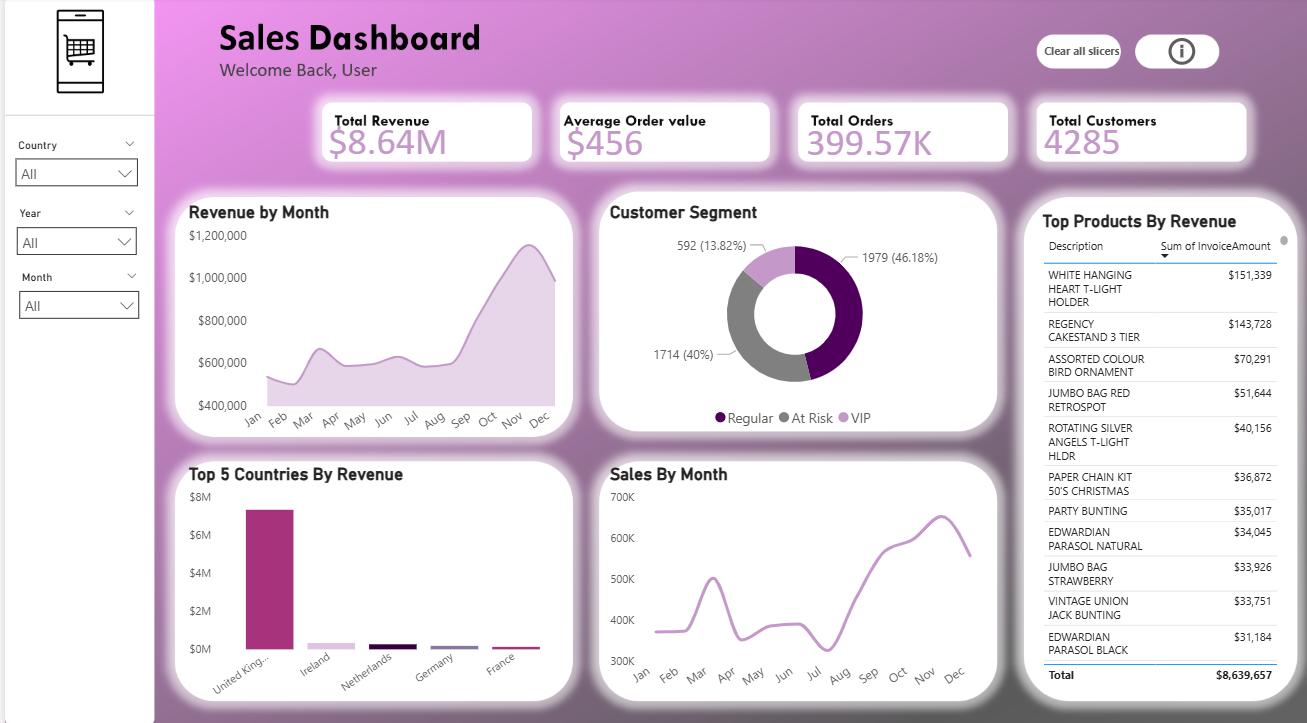

What the dashboard file says about the page in this screenshot:
{"tool":"powerbi","page":{"name":"Page 3","canvas":[1280,720],"ordinal":2},"visuals":[{"type":"card","fields":{"Values":["Count(Online_retail_clean.Customer ID)"]},"box":[1000,119,115.3,41.7],"z":0},{"type":"card","fields":{"Values":["Sum(Online_retail_clean.InvoiceAmount)"]},"box":[282.2,108,187.7,62.6],"z":1000},{"type":"card","fields":{"Values":["CountNonNull(Online_retail_clean.Invoice)"]},"box":[763.2,111.7,170.6,58.9],"z":2000},{"type":"actionButton","box":[1137.4,35.6,36.8,35.6],"z":3000},{"type":"actionButton","box":[1004.9,35.6,104.3,34.4],"z":4000},{"type":"donutChart","title":"Customer Segment","fields":{"Category":["Customer_Analysis.Customer Segment"],"Y":["Count(Customer_Analysis.CustomerID)"]},"box":[589,201.2,373,230.7],"z":5000},{"type":"slicer","fields":{"Values":["Online_retail_clean.Country"]},"box":[0,133.3,140,60],"z":6000},{"type":"slicer","fields":{"Values":["Online_retail_clean.Year"]},"box":[1.7,201.7,138.3,61.7],"z":7000},{"type":"slicer","fields":{"Values":["Online_retail_clean.Month"]},"box":[3.3,263.3,138.3,61.7],"z":8000},{"type":"areaChart","fields":{"Y":["Sum(Online_retail_clean.InvoiceAmount)"],"Category":["Online_retail_clean.Month"]},"box":[175,201.7,380,246.7],"z":9000},{"type":"clusteredColumnChart","title":"Top 5 Countries By Revenue","fields":{"Category":["Online_retail_clean.Country"],"Y":["Sum(Online_retail_clean.InvoiceAmount)"]},"box":[175.3,457.6,380.6,240.9],"z":10000},{"type":"lineChart","title":"Sales By Month","fields":{"Category":["Online_retail_clean.Month"],"Y":["CountNonNull(Online_retail_clean.Invoice)"]},"box":[588.7,457.6,374.9,240.9],"z":11000},{"type":"tableEx","title":"Top Products By Revenue","fields":{"Values":["Online_retail_clean.Description","Sum(Online_retail_clean.InvoiceAmount)"]},"box":[1013.5,209.8,251.5,471.2],"z":12000},{"type":"card","fields":{"Values":["Customer_Analysis.Average Order Value"]},"box":[504.3,111.7,169.3,58.9],"z":13000}]}

Visuals, with their boxes in screenshot pixels (x1, y1, x2, y2), scaled from the page's 1280x720 canvas onto the 1307x723 screenshot:
card - Count(Online_retail_clean.Customer ID): <bbox>1021, 119, 1139, 161</bbox>
card - Sum(Online_retail_clean.InvoiceAmount): <bbox>288, 108, 480, 171</bbox>
card - CountNonNull(Online_retail_clean.Invoice): <bbox>779, 112, 953, 171</bbox>
actionButton: <bbox>1161, 36, 1199, 71</bbox>
actionButton: <bbox>1026, 36, 1133, 70</bbox>
"Customer Segment" donutChart: <bbox>601, 202, 982, 434</bbox>
slicer - Online_retail_clean.Country: <bbox>0, 134, 143, 194</bbox>
slicer - Online_retail_clean.Year: <bbox>2, 203, 143, 264</bbox>
slicer - Online_retail_clean.Month: <bbox>3, 264, 145, 326</bbox>
areaChart - Sum(Online_retail_clean.InvoiceAmount) x Online_retail_clean.Month: <bbox>179, 203, 567, 450</bbox>
"Top 5 Countries By Revenue" clusteredColumnChart: <bbox>179, 460, 568, 701</bbox>
"Sales By Month" lineChart: <bbox>601, 460, 984, 701</bbox>
"Top Products By Revenue" tableEx: <bbox>1035, 211, 1292, 684</bbox>
card - Customer_Analysis.Average Order Value: <bbox>515, 112, 688, 171</bbox>
